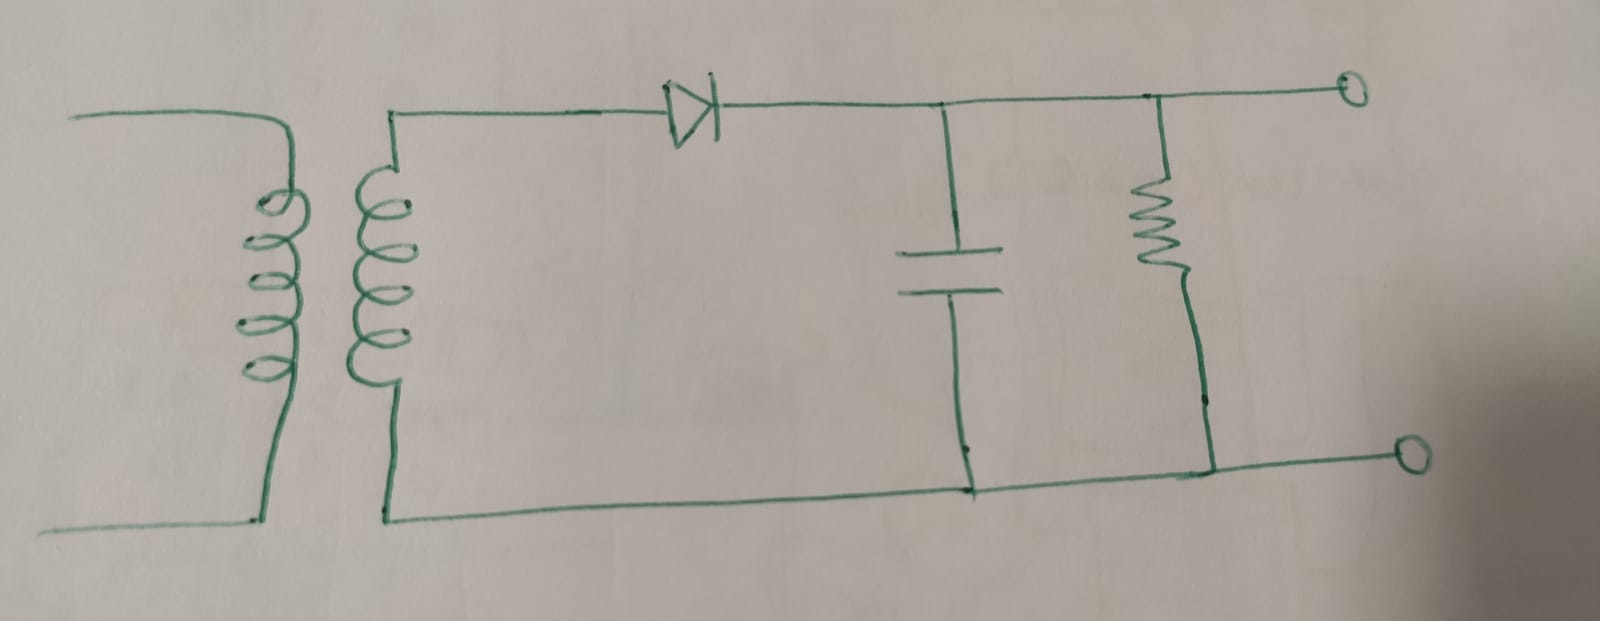capacitor.unpolarized: (896, 242, 1007, 307)
diode: (657, 71, 726, 150)
junction: (265, 105, 301, 143), (1194, 453, 1231, 487), (371, 500, 405, 536), (243, 505, 276, 535), (378, 100, 407, 130), (958, 475, 984, 507), (932, 90, 953, 121), (1146, 86, 1166, 106)
resistor: (1123, 159, 1203, 289)
terminal: (1387, 432, 1433, 477), (1329, 65, 1371, 111), (28, 517, 64, 550), (57, 103, 89, 137)
transformer: (234, 160, 420, 400)
